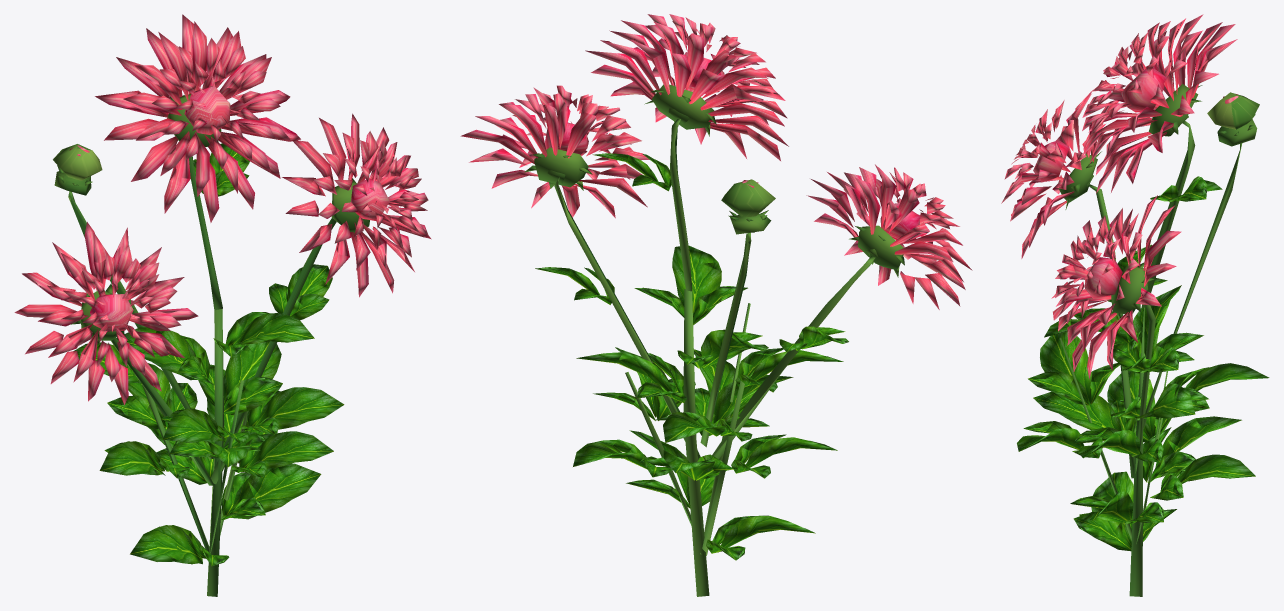
The model's file is NP_Dahlia_Ready_LOD1.fbx.
3 views of the same model, side by side, from view 1: azimuth 30°, elevation 25°; view 2: azimuth 150°, elevation 25°; view 3: azimuth 270°, elevation 25° (orthographic). The views are drawn at different scales.
Parts seen in each view (by area): view 1: NP_Dahlia_Ready; view 2: NP_Dahlia_Ready; view 3: NP_Dahlia_Ready.
Part boxes in pixels (x1,y1,x2,y2): NP_Dahlia_Ready: [14, 14, 431, 596]; NP_Dahlia_Ready: [460, 14, 972, 596]; NP_Dahlia_Ready: [1001, 14, 1269, 596].
Size of the model in its own units: 72.11 by 87.84 by 37.41.
